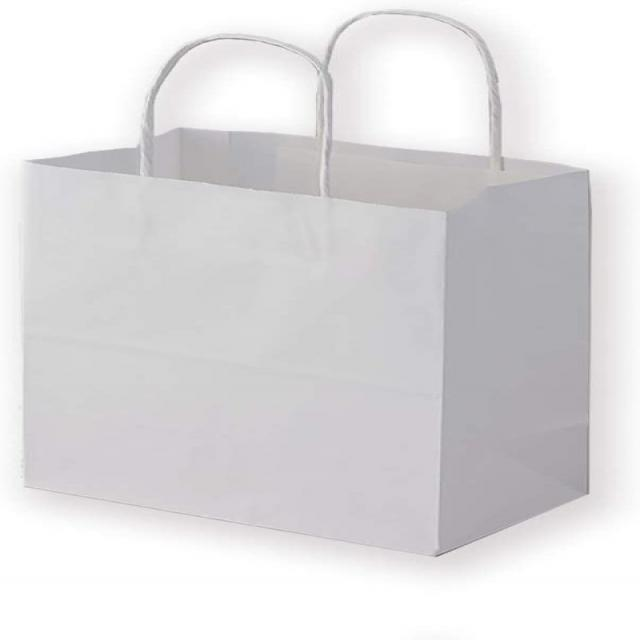paper bag: (5, 8, 603, 561)
